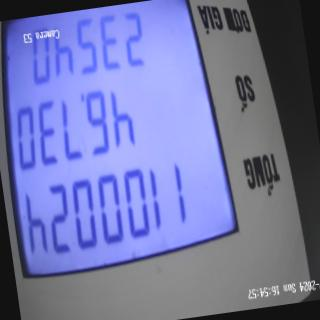screen: (0, 0, 243, 281)
